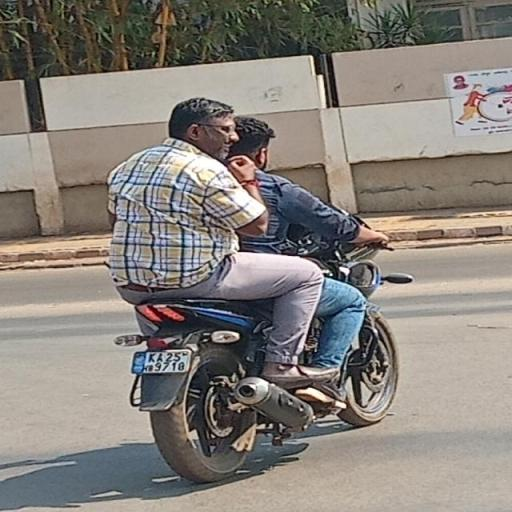bike: (97, 98, 422, 487)
numberplate: (130, 350, 192, 374)
withouthelmet: (162, 98, 232, 150), (226, 118, 270, 170)
